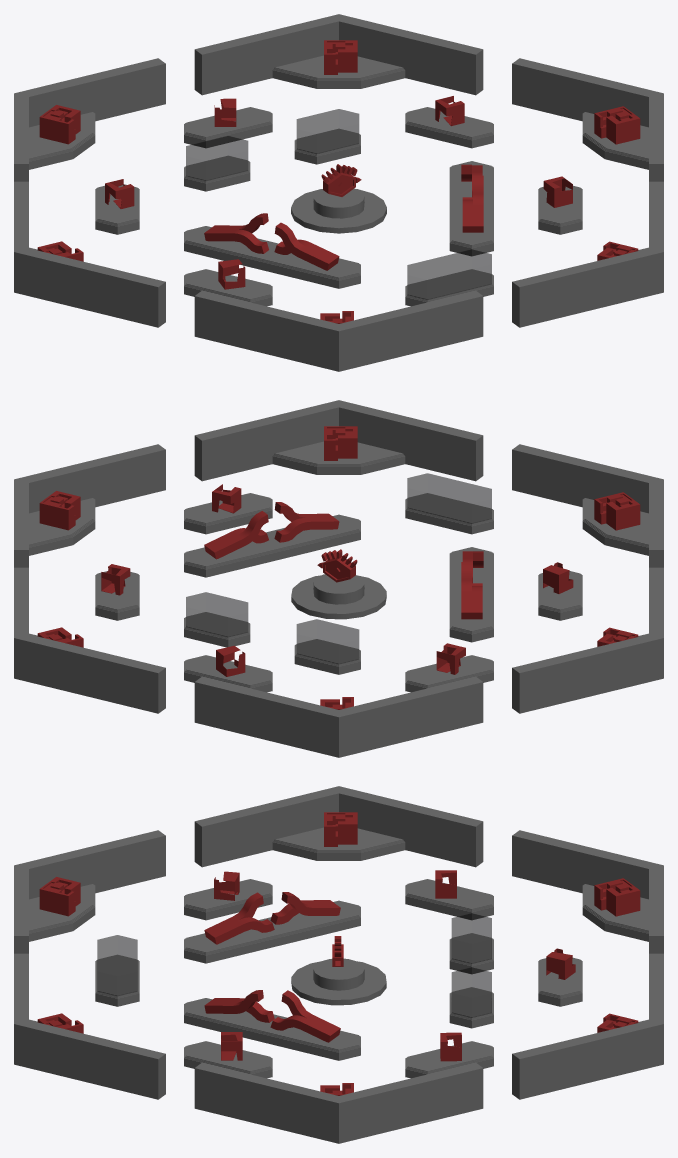
Rendered from Gran Hall 21-5.fbx.
3 renders of one model, top to bottom at view 1: azimuth 30°, elevation 25°; view 2: azimuth 150°, elevation 25°; view 3: azimuth 270°, elevation 25°, orthographic.
Visible parts, largest first — view 1: Objeto_57, Objeto_55, Objeto_56, Objeto_58, Objeto_54, Objeto_39, Objeto_91, Objeto_90, Objeto_89, Objeto_53, Objeto_61, Objeto_96 (+27 smaller); view 2: Objeto_39, Objeto_58, Objeto_55, Objeto_56, Objeto_57, Objeto_54, Objeto_91, Objeto_89, Objeto_90, Objeto_53, Objeto_61, Objeto_96 (+29 smaller); view 3: Objeto_54, Objeto_56, Objeto_55, Objeto_58, Objeto_39, Objeto_57, Objeto_91, Objeto_53, Objeto_96, Objeto_61, Objeto_89, Objeto_90 (+26 smaller).
Boxes of the visible parts, x1,y1,x2,y2 form: Objeto_57: [194, 290, 483, 371]; Objeto_55: [194, 14, 483, 95]; Objeto_56: [14, 181, 165, 327]; Objeto_58: [512, 181, 663, 327]; Objeto_54: [512, 58, 663, 181]; Objeto_39: [14, 58, 165, 181]; Objeto_91: [407, 249, 491, 299]; Objeto_90: [296, 109, 359, 153]; Objeto_89: [186, 136, 248, 180]; Objeto_53: [291, 189, 386, 233]; Objeto_61: [452, 161, 491, 245]; Objeto_96: [186, 226, 358, 278]; Objeto_39: [194, 676, 483, 757]; Objeto_58: [194, 400, 483, 481]; Objeto_55: [14, 567, 165, 713]; Objeto_56: [512, 567, 663, 713]; Objeto_57: [512, 444, 663, 567]; Objeto_54: [14, 444, 165, 567]; Objeto_91: [407, 473, 491, 523]; Objeto_89: [296, 619, 359, 663]; Objeto_90: [186, 592, 248, 636]; Objeto_53: [291, 575, 386, 619]; Objeto_61: [186, 514, 358, 566]; Objeto_96: [452, 547, 491, 631]; Objeto_54: [194, 1062, 483, 1143]; Objeto_56: [194, 786, 483, 867]; Objeto_55: [512, 953, 663, 1099]; Objeto_58: [14, 953, 165, 1099]; Objeto_39: [512, 830, 663, 953]; Objeto_57: [14, 830, 165, 953]; Objeto_91: [97, 935, 137, 995]; Objeto_53: [291, 961, 386, 1005]; Objeto_96: [186, 900, 358, 952]; Objeto_61: [186, 998, 358, 1050]; Objeto_89: [451, 913, 491, 963]; Objeto_90: [451, 967, 491, 1017].
Bounding box in the file's own units: 50.31 × 43.57 × 3.56.
